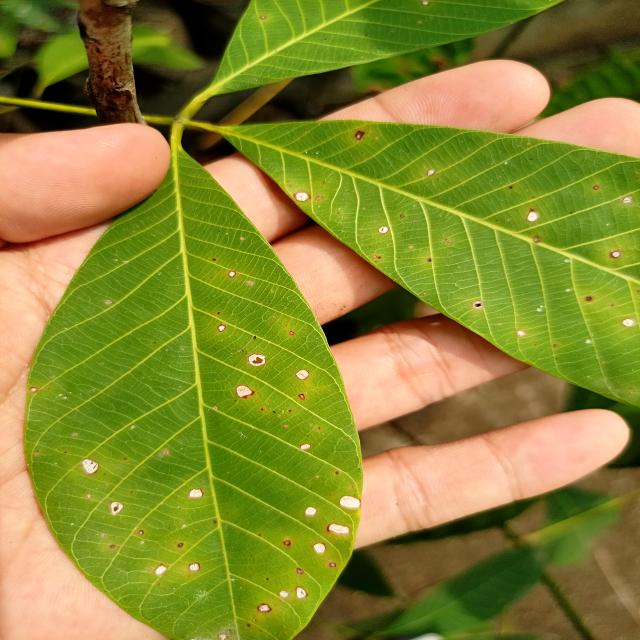Colletotrichum: (248, 354, 266, 366), (236, 385, 253, 397), (294, 192, 312, 202), (526, 208, 538, 222), (296, 586, 308, 599), (296, 369, 310, 380), (257, 603, 272, 612), (354, 130, 365, 140), (188, 562, 200, 571), (377, 226, 389, 234), (217, 324, 226, 332), (300, 443, 312, 449), (612, 250, 621, 258), (228, 270, 236, 278), (30, 386, 38, 393), (282, 540, 291, 546), (298, 393, 305, 400), (296, 568, 304, 574), (585, 296, 592, 301), (593, 185, 599, 190), (329, 563, 336, 567), (289, 331, 295, 335), (178, 543, 184, 547), (110, 544, 116, 548), (138, 530, 144, 534), (212, 258, 216, 261), (335, 471, 339, 474), (218, 312, 220, 314)
